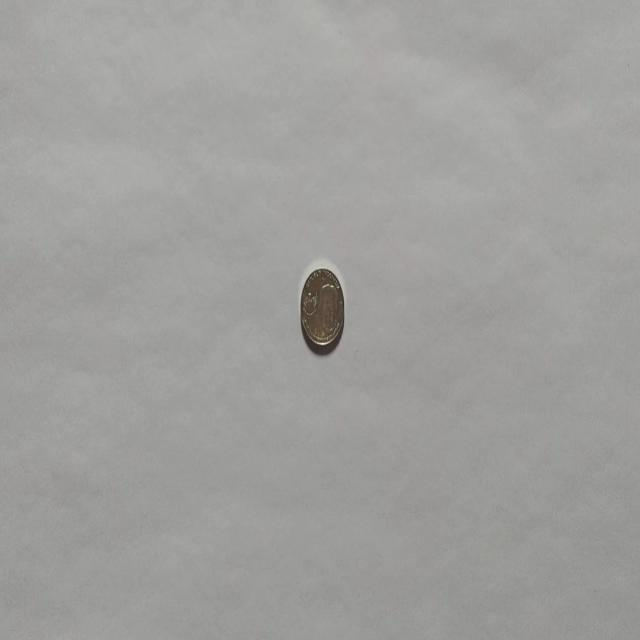seratus rupiah: (300, 266, 344, 352)
